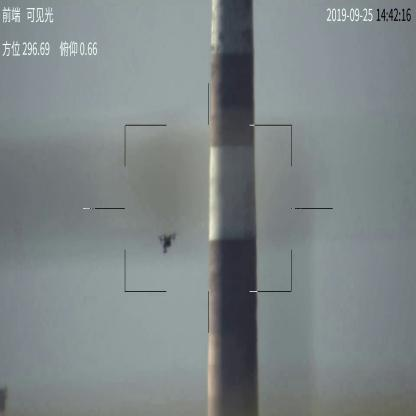uav: (155, 232, 180, 254)
